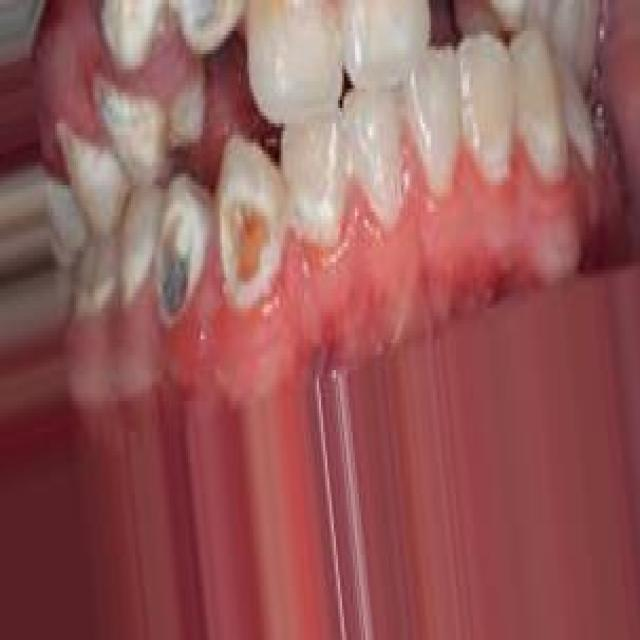caries: (216, 168, 284, 302), (95, 74, 162, 174), (149, 200, 200, 312)
